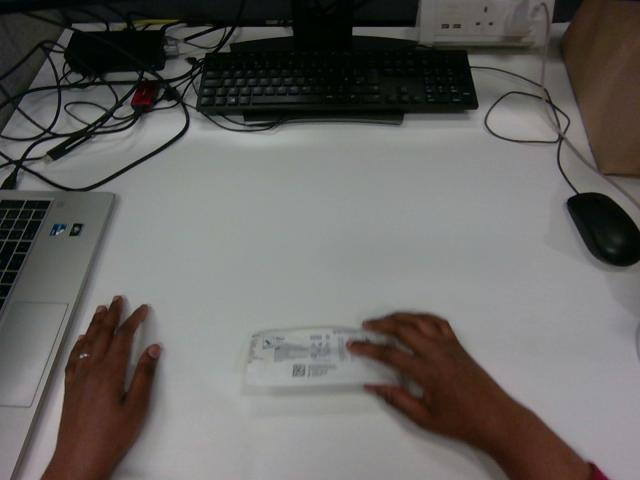syringe: (245, 327, 399, 386)
